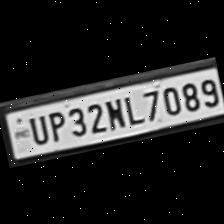0: (156, 81, 184, 118)
2: (82, 98, 107, 134)
3: (62, 104, 88, 138)
7: (136, 86, 162, 122)
8: (177, 78, 202, 114)
9: (195, 73, 222, 110)
L: (119, 90, 145, 128)
N: (100, 94, 128, 132)
P: (44, 108, 68, 142)
U: (24, 111, 48, 146)
